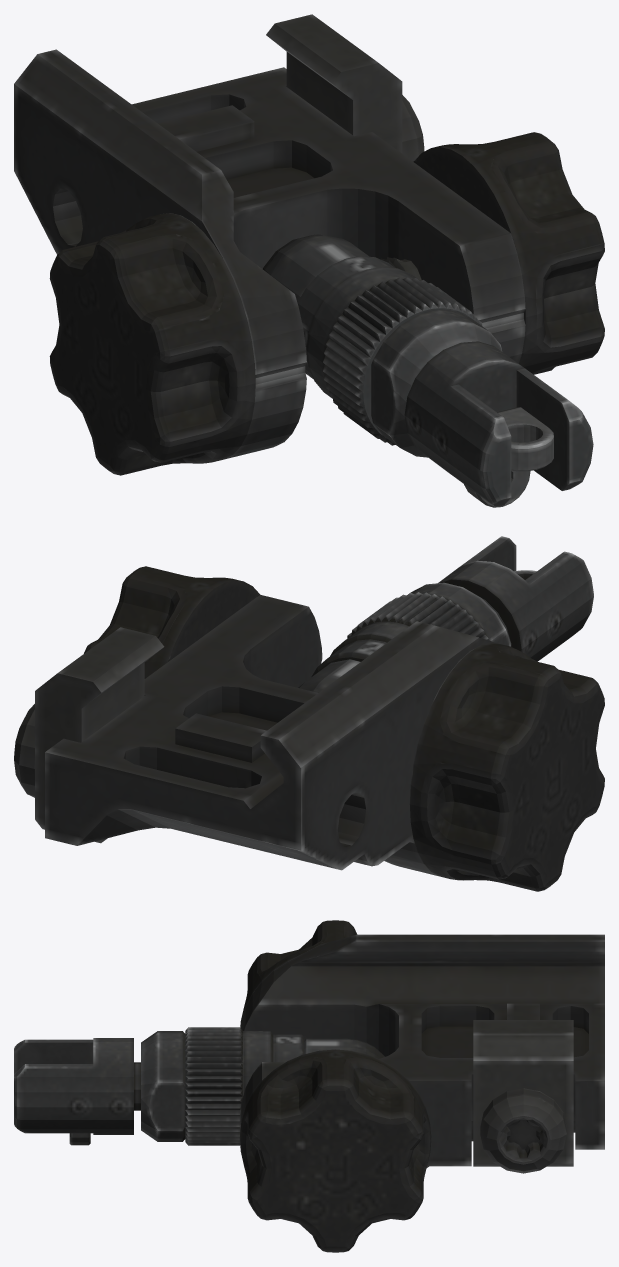
3 renders of one model, top to bottom at view 1: azimuth 30°, elevation 25°; view 2: azimuth 150°, elevation 25°; view 3: azimuth 270°, elevation 25°, orthographic. The views are drawn at different scales.
Parts seen in each view (by area): view 1: TW_61817865d3a39d50044c13a4_folded_PZ_Import; view 2: TW_61817865d3a39d50044c13a4_folded_PZ_Import; view 3: TW_61817865d3a39d50044c13a4_folded_PZ_Import.
Boxes of the visible parts, left/top/right/bottom form: TW_61817865d3a39d50044c13a4_folded_PZ_Import: left=14, top=14, right=604, bottom=507; TW_61817865d3a39d50044c13a4_folded_PZ_Import: left=14, top=536, right=604, bottom=891; TW_61817865d3a39d50044c13a4_folded_PZ_Import: left=14, top=920, right=604, bottom=1252.
Size of the model in its own units: 0.0234 by 0.0355 by 0.0131.
1 material, 1 textured.
